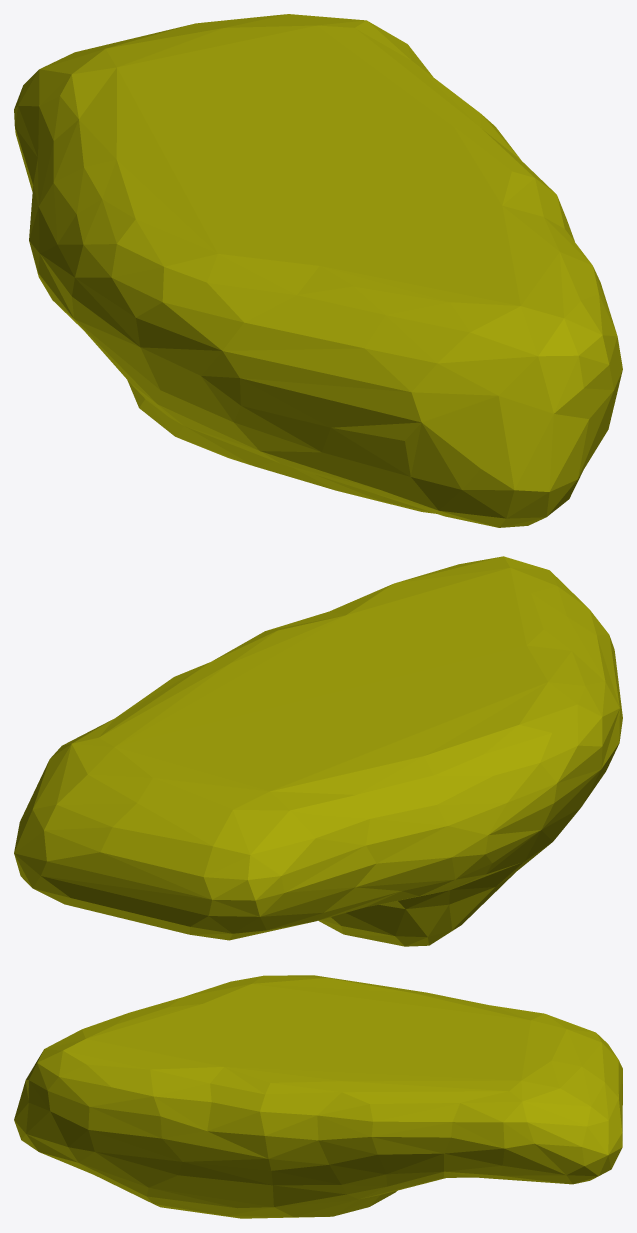
Rendered from SpC.obj.
3 renders of one model, top to bottom at view 1: azimuth 30°, elevation 25°; view 2: azimuth 150°, elevation 25°; view 3: azimuth 270°, elevation 25°, orthographic. The views are drawn at different scales.
Parts seen in each view (by area): view 1: SpC_SpC.003; view 2: SpC_SpC.003; view 3: SpC_SpC.003.
Boxes of the visible parts, x1=… form: SpC_SpC.003: x1=14, y1=14, x2=622, y2=527; SpC_SpC.003: x1=14, y1=556, x2=622, y2=946; SpC_SpC.003: x1=14, y1=975, x2=622, y2=1218.
Bounding box in the file's own units: 1.09 × 0.5838 × 1.88.
